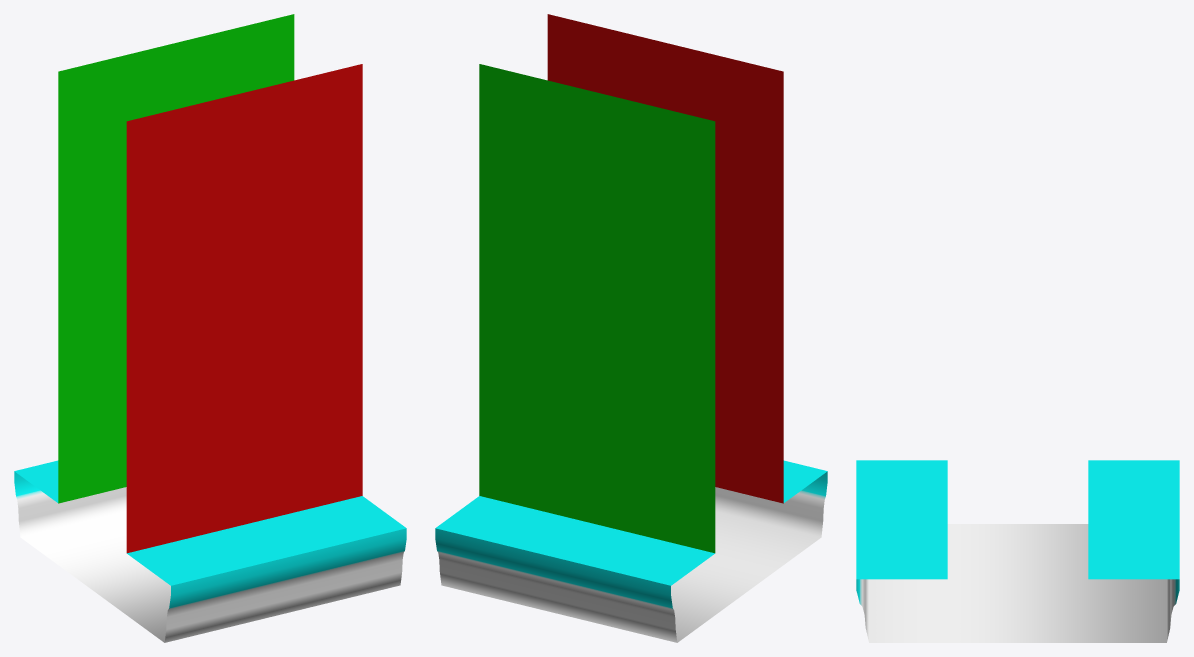
Rendered from SM_FriezeArchDualOpenSide1m.fbx.
The picture shows the model from 3 angles, left to right: view 1: azimuth 30°, elevation 25°; view 2: azimuth 150°, elevation 25°; view 3: azimuth 270°, elevation 25°; orthographic projection. The views are drawn at different scales.
Parts seen in each view (by area): view 1: SM_FriezeArchDualOpenSide1m; view 2: SM_FriezeArchDualOpenSide1m; view 3: SM_FriezeArchDualOpenSide1m.
Boxes of the visible parts, left/top/right/bottom form: SM_FriezeArchDualOpenSide1m: left=14, top=14, right=406, bottom=642; SM_FriezeArchDualOpenSide1m: left=435, top=14, right=827, bottom=642; SM_FriezeArchDualOpenSide1m: left=856, top=460, right=1179, bottom=642.
Bounding box in the file's own units: 100 × 200 × 115.
